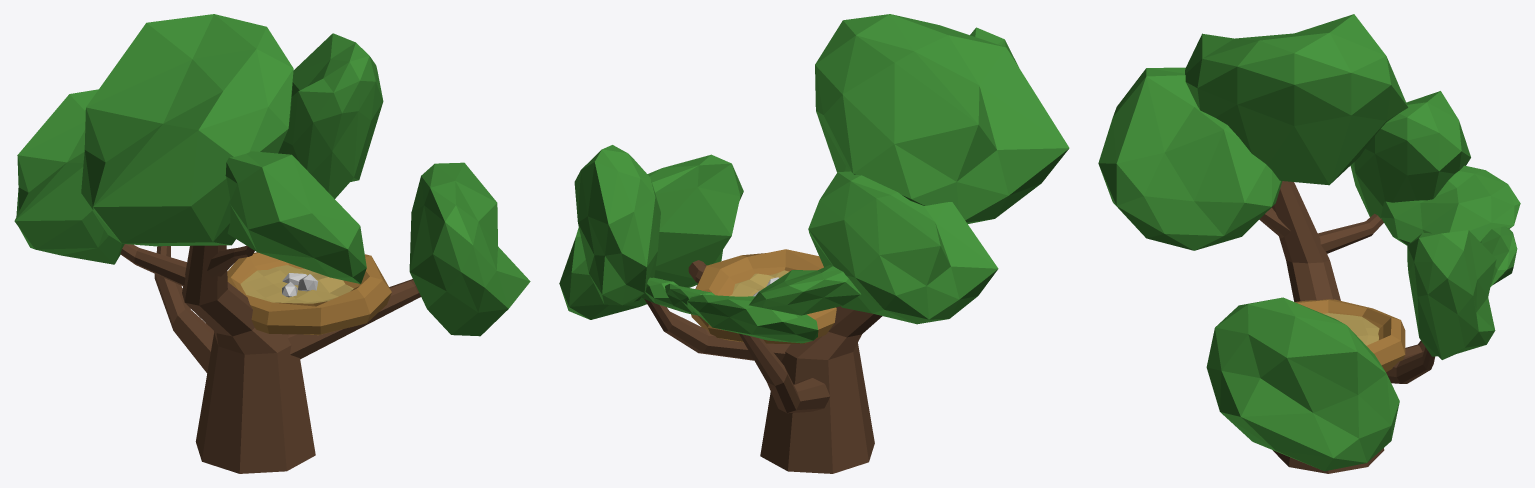
Rendered from nest.fbx.
3 views of the same model, side by side, from view 1: azimuth 30°, elevation 25°; view 2: azimuth 150°, elevation 25°; view 3: azimuth 270°, elevation 25° (orthographic). The views are drawn at different scales.
Visible parts, largest first — view 1: EndTree; view 2: EndTree; view 3: EndTree.
Part boxes in pixels (bbox=[...]): EndTree: bbox=[14, 14, 530, 473]; EndTree: bbox=[559, 14, 1069, 473]; EndTree: bbox=[1098, 14, 1520, 473].
Bounding box in the file's own units: 8304 × 7506 × 7188.
